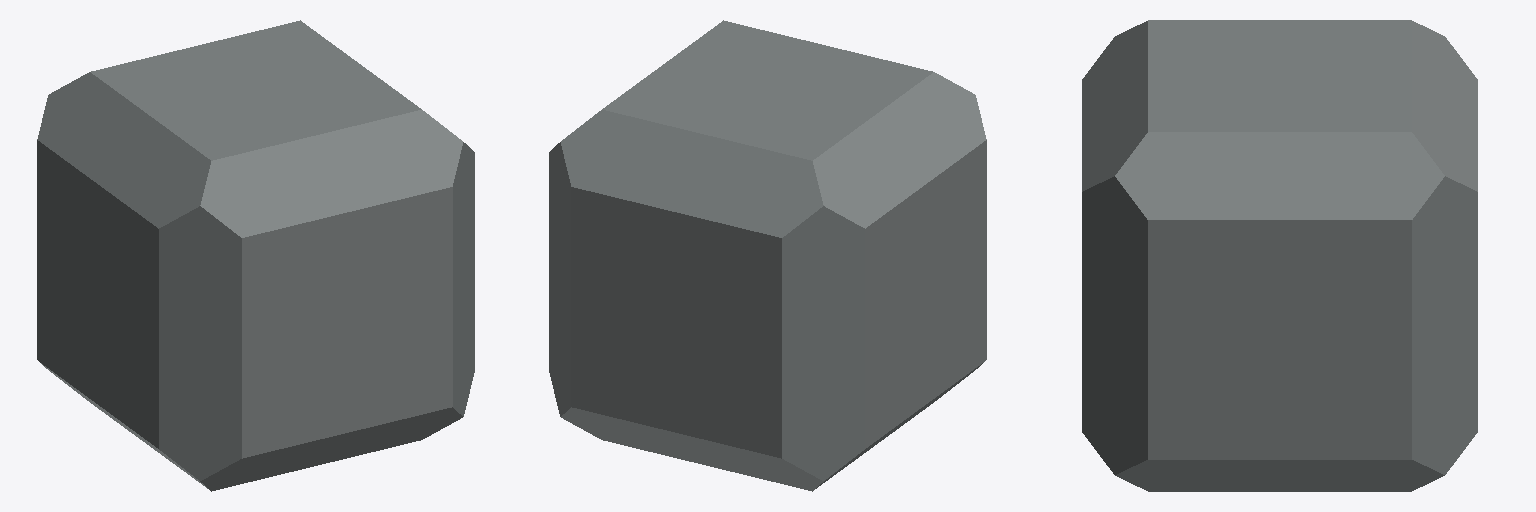
The robot description file, URDF, robot "cube":
<?xml version="1.0" encoding="utf-8"?>
<!-- This URDF was automatically created by SolidWorks to URDF Exporter! Originally created by [author] ([email redacted]) 
     Commit Version: 1.5.1-0-g916b5db  Build Version: 1.5.7152.31018
     For more information, please see http://wiki.ros.org/sw_urdf_exporter -->
<robot
  name="cube">
  <link
    name="cube">
    <inertial>
      <origin
        xyz="6.0846E-17 3.88320953073357E-18 0.03"
        rpy="0 0 0" />
      <mass
        value="1.4508" />
      <inertia
        ixx="0.00075283"
        ixy="9.8829E-20"
        ixz="3.2682E-19"
        iyy="0.00075283"
        iyz="-2.9821E-20"
        izz="0.00075283" />
    </inertial>
    <visual>
      <origin
        xyz="0 0 0"
        rpy="1.5707963267949 0 0" />
      <geometry>
        <mesh
          filename="package://cube/meshes/cube.STL" />
      </geometry>
      <material
        name="">
        <color
          rgba="0.52941 0.54902 0.54902 1" />
        <texture
          filename="package://cube/textures/" />
      </material>
    </visual>
    <collision>
      <origin
        xyz="0 0 0"
        rpy="1.5707963267949 0 0" />
      <geometry>
        <mesh
          filename="package://cube/meshes/cube.STL" />
      </geometry>
    </collision>
  </link>
</robot>

--- Render facts (derived) ---
The picture shows the robot from 3 angles, left to right: view 1: azimuth 30°, elevation 25°; view 2: azimuth 150°, elevation 25°; view 3: azimuth 270°, elevation 25°; orthographic projection.
Robot: cube — 1 links, 0 joints (none); root link cube; default pose: every joint at zero.
Visible links, largest first — view 1: cube; view 2: cube; view 3: cube.
Boxes of the visible links, x1,y1,x2,y2 form: cube: (37, 20, 474, 491); cube: (549, 20, 986, 491); cube: (1082, 20, 1477, 491).
Size in the robot's own frame: 0.06 by 0.06 by 0.06 metres.
Meshes: 1 distinct files referenced, 1 mesh visuals loaded (1 binary STL).